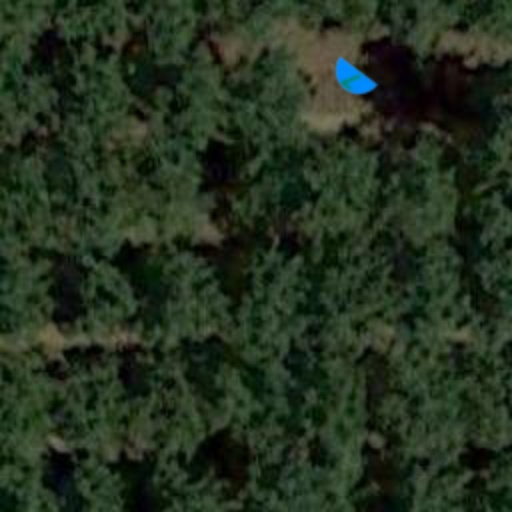semicircle: (318, 46, 386, 114)
